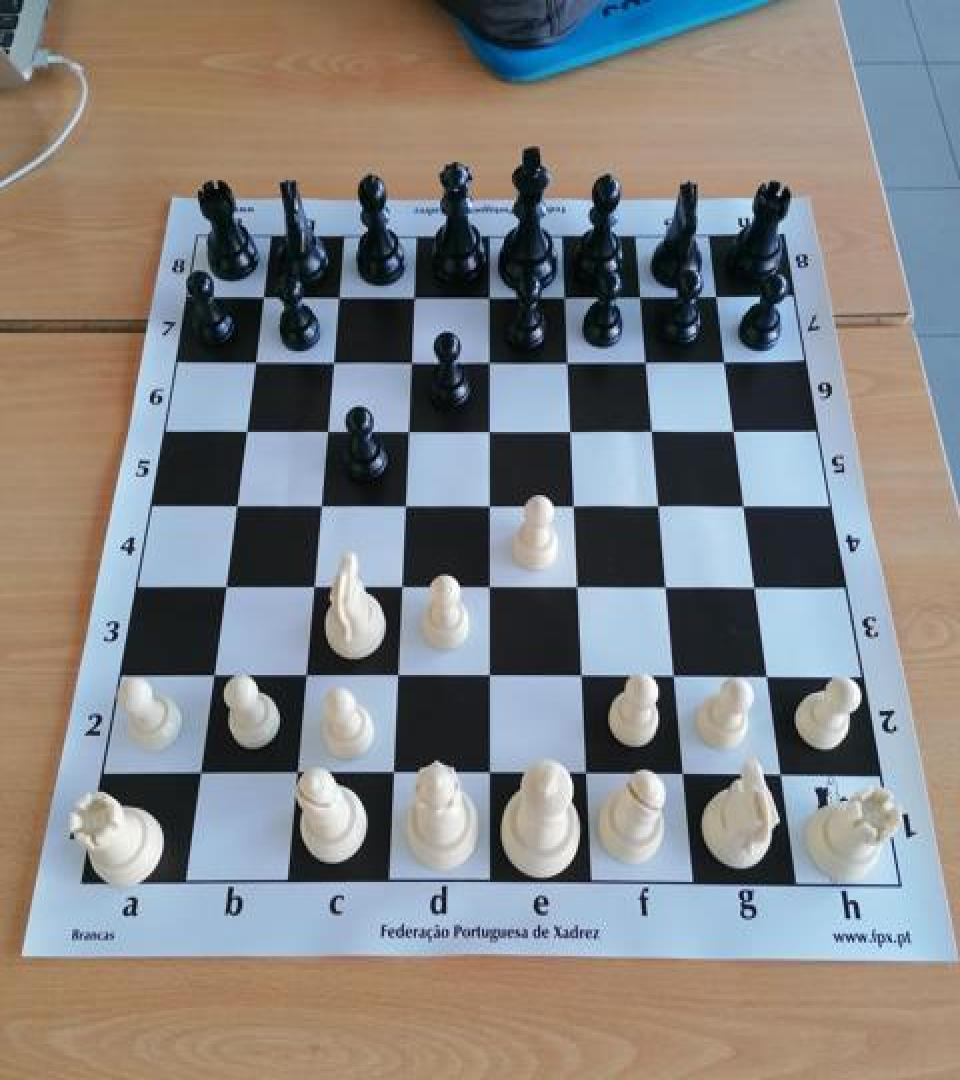xcorner: (244, 274, 278, 312), (235, 340, 269, 378), (225, 410, 259, 448), (215, 486, 249, 524), (204, 570, 238, 608), (191, 660, 225, 698), (178, 758, 212, 796), (320, 274, 354, 312), (314, 340, 348, 378), (308, 410, 342, 448), (301, 486, 335, 524), (293, 570, 327, 608), (285, 660, 319, 698), (276, 758, 310, 796), (397, 274, 431, 312), (394, 340, 428, 378), (391, 410, 425, 448), (387, 486, 421, 524), (383, 570, 417, 608), (379, 660, 413, 698), (374, 758, 408, 796), (473, 274, 507, 312), (473, 340, 507, 378), (473, 410, 507, 448), (473, 486, 507, 524), (473, 570, 507, 608), (473, 660, 507, 698), (473, 758, 507, 796), (550, 274, 584, 312), (553, 340, 587, 378), (556, 410, 590, 448), (559, 486, 593, 524), (563, 570, 597, 608), (567, 660, 601, 698), (571, 758, 605, 796), (626, 274, 660, 312), (632, 340, 666, 378), (638, 410, 672, 448), (645, 486, 679, 524), (653, 570, 687, 608), (661, 660, 695, 698), (669, 758, 703, 796), (703, 274, 737, 312), (712, 340, 746, 378), (721, 410, 755, 448), (731, 486, 765, 524), (742, 570, 776, 608), (754, 660, 788, 698), (768, 758, 802, 796)
